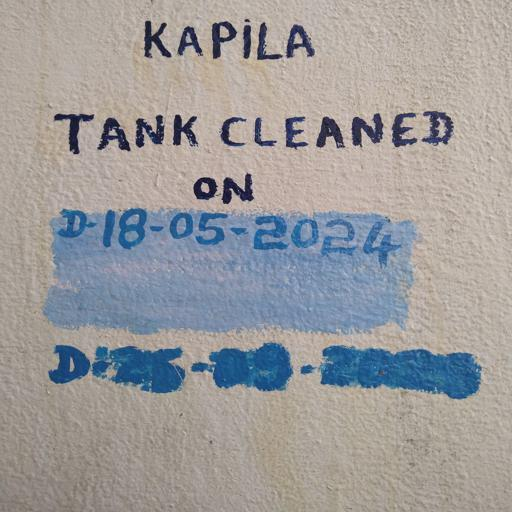stain: (35, 199, 429, 338), (46, 336, 476, 414), (43, 91, 479, 146), (112, 16, 335, 72), (176, 171, 267, 214)
